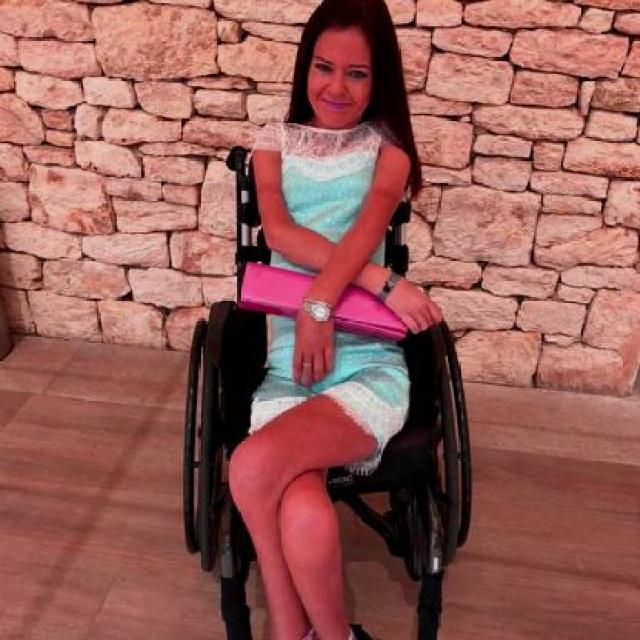wheelchairs: (178, 145, 475, 640)
